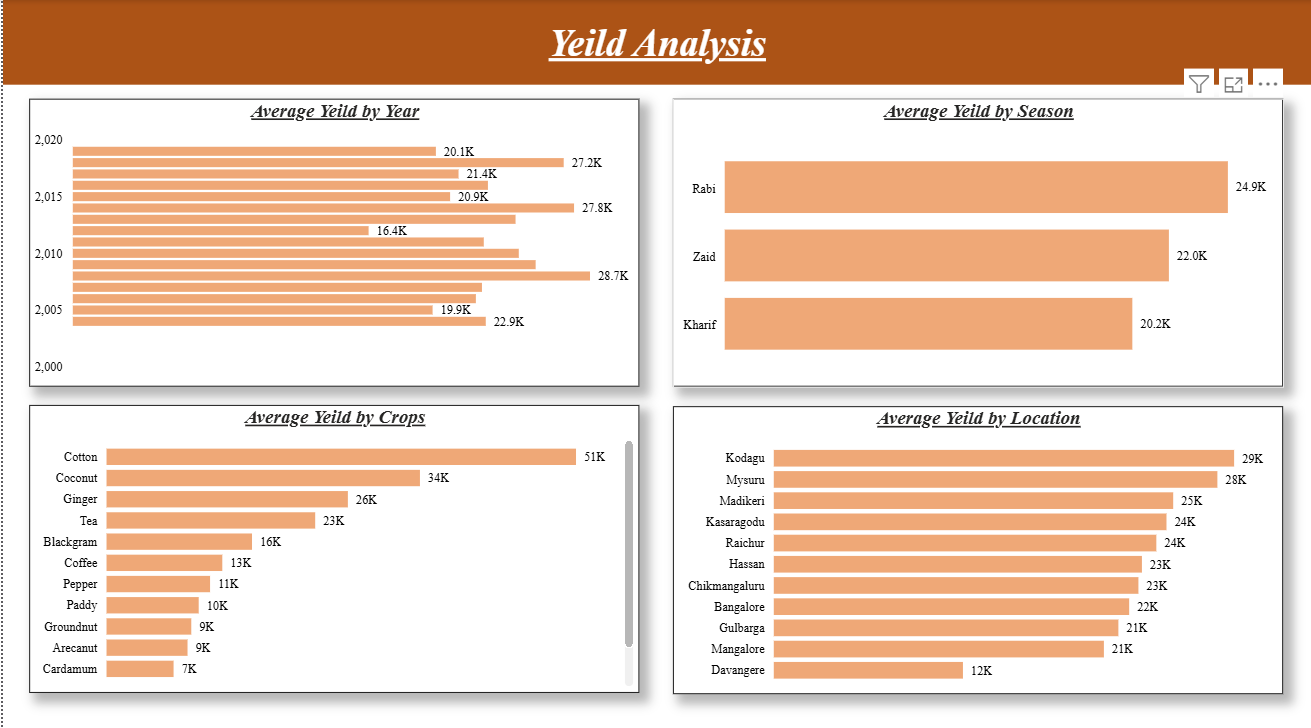

The dashboard page shown, as its layout file describes it:
{"tool":"powerbi","page":{"name":"Yeilds Analysis","canvas":[1280,720],"ordinal":3},"visuals":[{"type":"shape","box":[0,0,1280,82.9],"z":0},{"type":"barChart","title":"Average Yeild by Year","fields":{"Category":["ARGRICULTURE.YEAR"],"Y":["Sum(ARGRICULTURE.YEILDS)"]},"box":[25.7,97.1,597.1,281.4],"z":1000},{"type":"barChart","title":"Average Yeild by Season","fields":{"Category":["ARGRICULTURE.SEASON"],"Y":["Sum(ARGRICULTURE.YEILDS)"]},"box":[655.7,97.1,597.1,281.4],"z":2000},{"type":"barChart","title":"Average Yeild by Crops","fields":{"Category":["ARGRICULTURE.CROPS"],"Y":["Sum(ARGRICULTURE.YEILDS)"]},"box":[25.7,395.7,597.1,281.4],"z":3000},{"type":"barChart","title":"Average Yeild by  Location","fields":{"Category":["ARGRICULTURE.LOCATION"],"Y":["Sum(ARGRICULTURE.YEILDS)"]},"box":[655.7,397.1,597.1,281.4],"z":4000}]}

Visuals, with their boxes in screenshot pixels (x1, y1, x2, y2), scaled from the page's 1280x720 canvas onto the 1311x728 screenshot:
shape: region(0, 0, 1310, 84)
"Average Yeild by Year" barChart: region(26, 98, 638, 383)
"Average Yeild by Season" barChart: region(672, 98, 1283, 383)
"Average Yeild by Crops" barChart: region(26, 400, 638, 685)
"Average Yeild by  Location" barChart: region(672, 402, 1283, 686)
